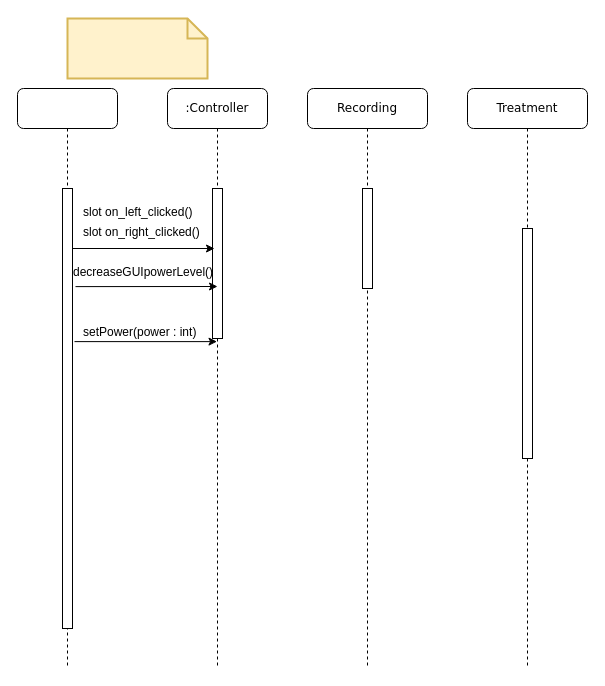
The diagram is 605 pixels wide and 686 high, and some of its shapes have lost their labels. Each missing label, with the box of its shape:
:GUI: (16, 88, 118, 668)
Assuming the user has selected a treatment: (66, 17, 208, 79)
